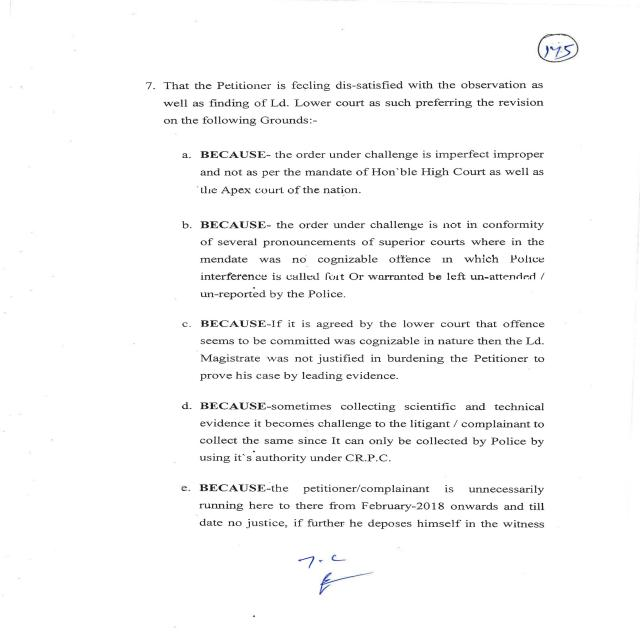page-number: (0, 0, 640, 74)
